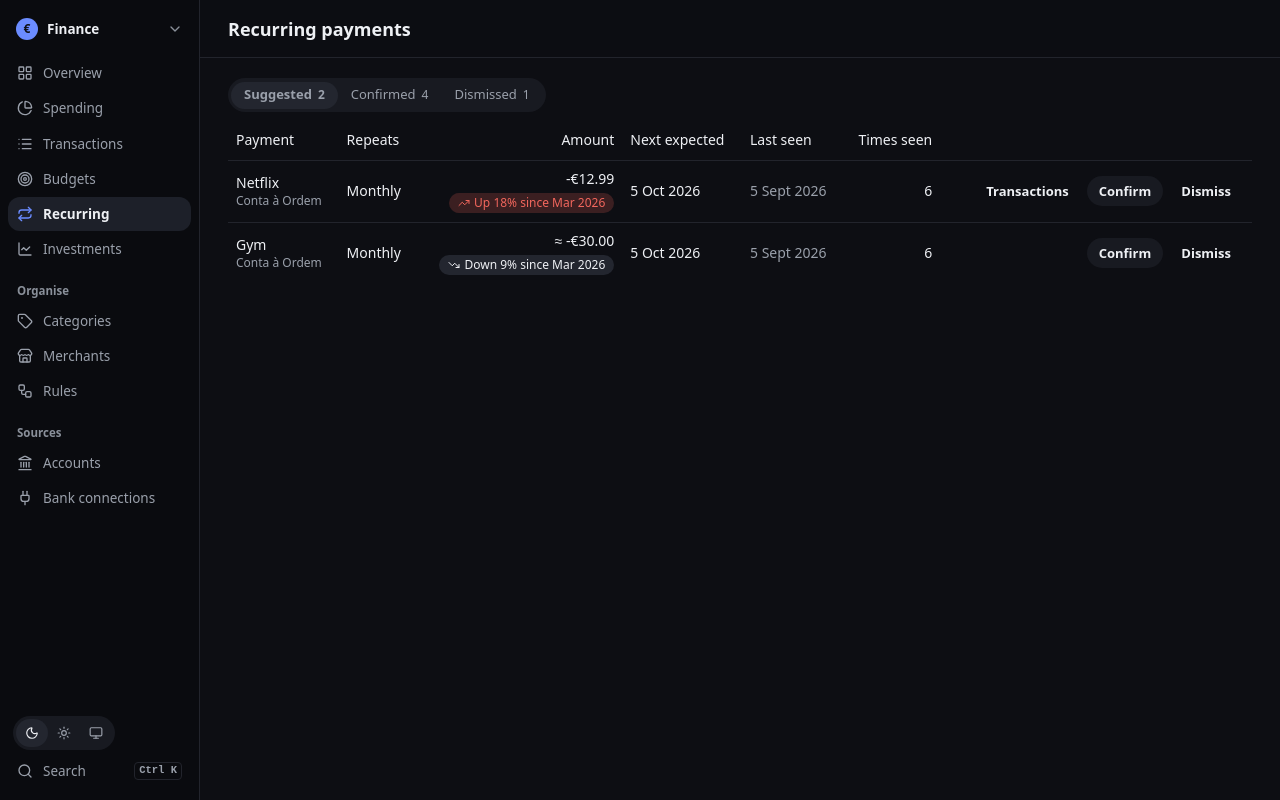
Test: shows why a change failed
This screenshot has width=1280, height=800.
Click the button with aria-label "Confirm Netflix" at (1125, 191), box top-left (1086, 175), bottom-right (1164, 207)
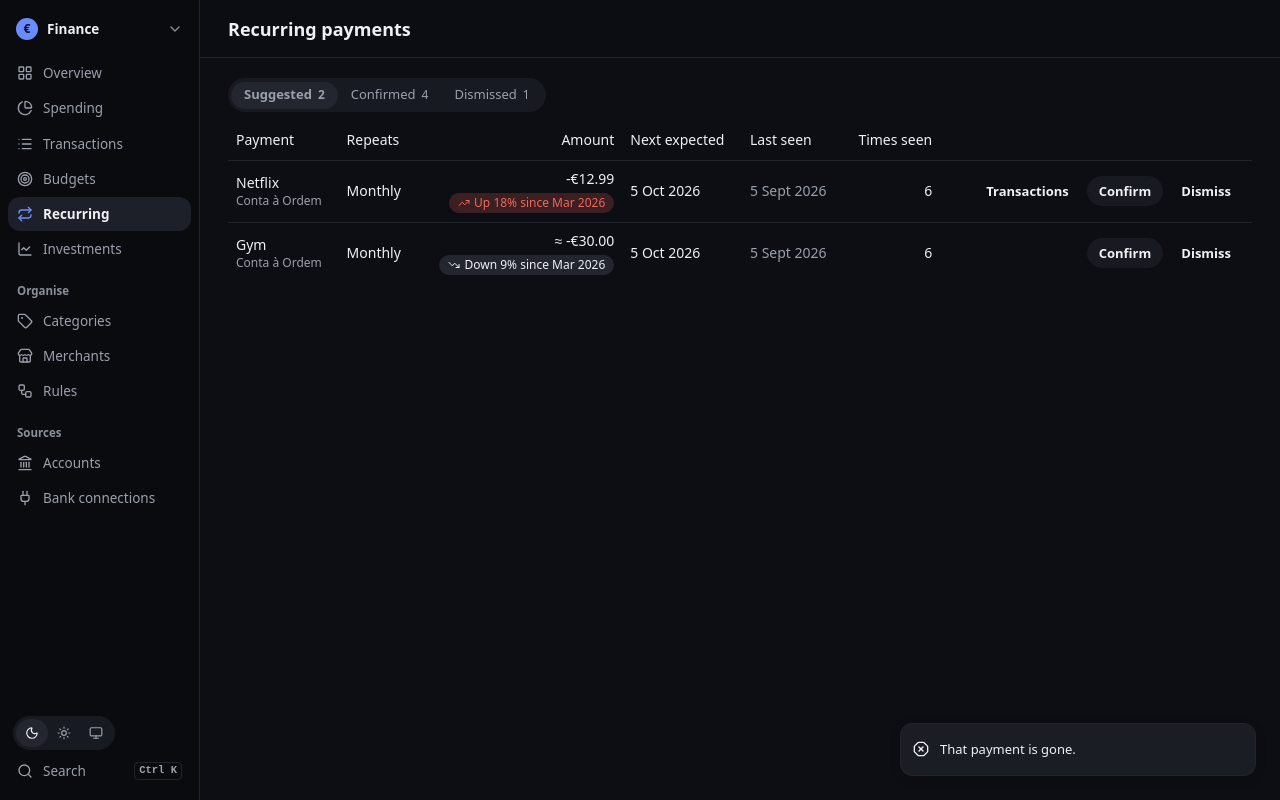
Check: the text "That payment is gone." is shown, box top-left (940, 740), bottom-right (1076, 759)
